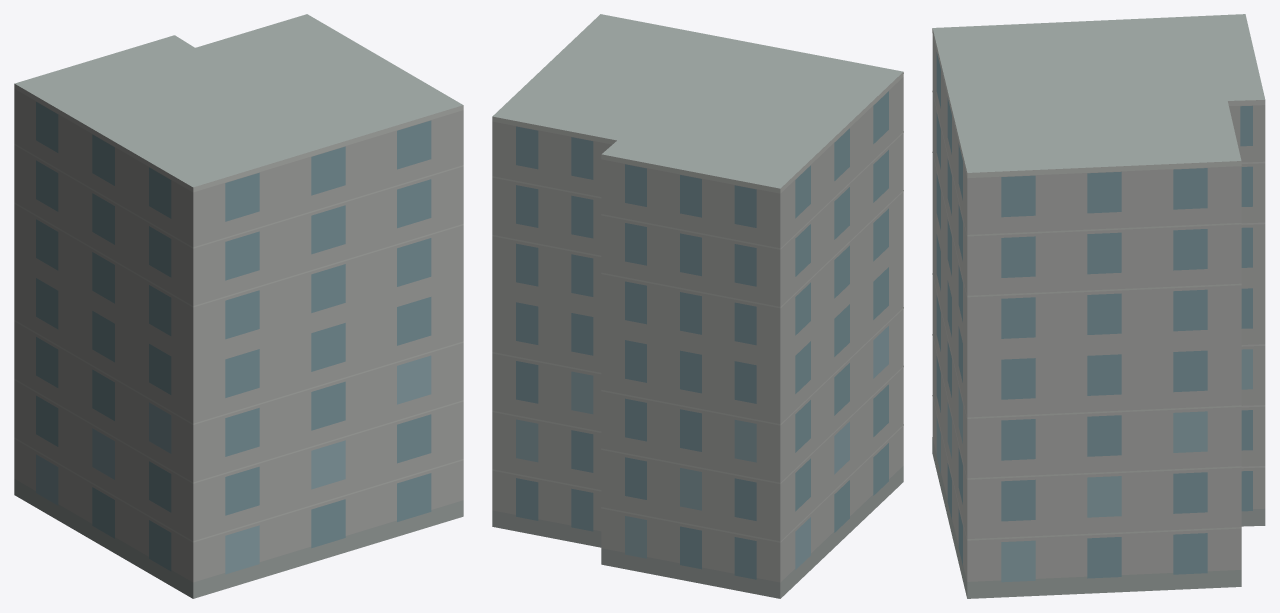
Rendered from survey-upis-32633521.glb.
3 views of the same model, side by side, from view 1: azimuth 30°, elevation 25°; view 2: azimuth 150°, elevation 25°; view 3: azimuth 270°, elevation 25° (orthographic). The views are drawn at different scales.
Parts seen in each view (by area): view 1: survey-upis-32633521.tmp; view 2: survey-upis-32633521.tmp; view 3: survey-upis-32633521.tmp.
Part boxes in pixels (box(x1,y1,x2,y2)): survey-upis-32633521.tmp: box(14, 14, 463, 598); survey-upis-32633521.tmp: box(492, 14, 903, 598); survey-upis-32633521.tmp: box(932, 14, 1265, 598).
Bounding box in the file's own units: 16.04 × 20 × 14.19.
